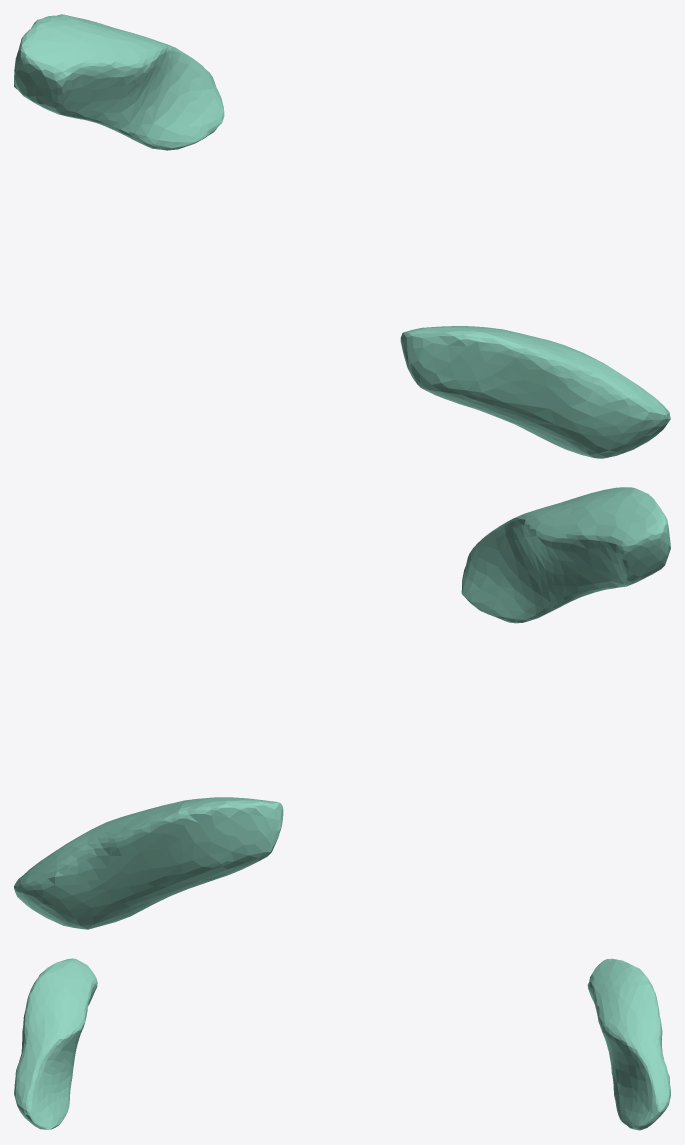
The picture shows the model from 3 angles, top to bottom: view 1: azimuth 30°, elevation 25°; view 2: azimuth 150°, elevation 25°; view 3: azimuth 270°, elevation 25°; orthographic projection. The views are drawn at different scales.
Visible parts, largest first — view 1: 655.obj; view 2: 655.obj; view 3: 655.obj.
Part boxes in pixels (<box>): 655.obj: <box>14,14,670,458</box>; 655.obj: <box>14,487,670,929</box>; 655.obj: <box>14,958,670,1130</box>.
Bounding box in the file's own units: 2016 × 1281 × 7097.
